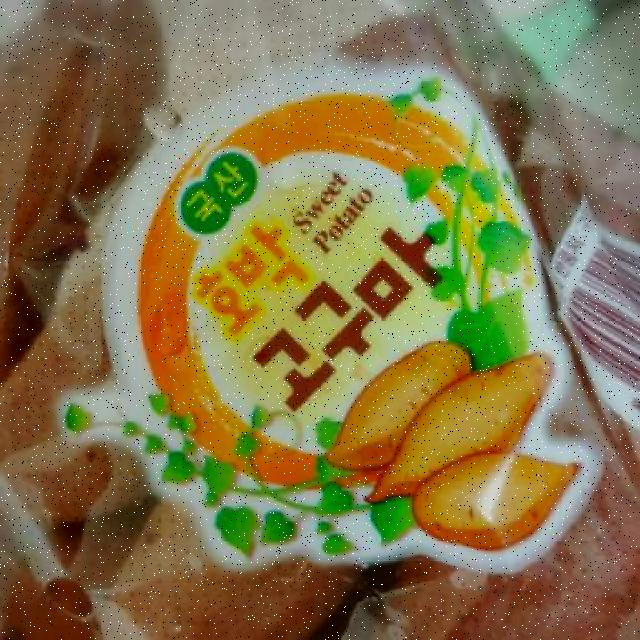Sweet Potato: (1, 0, 638, 638)
